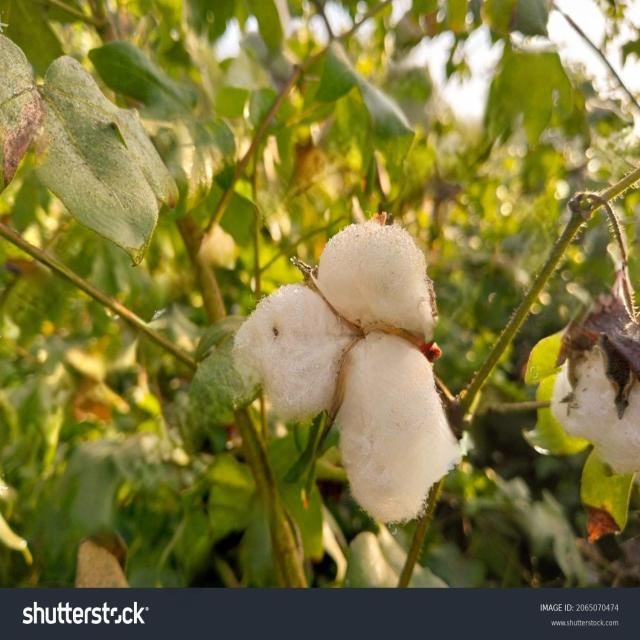Leaf: (213, 193, 474, 552)
